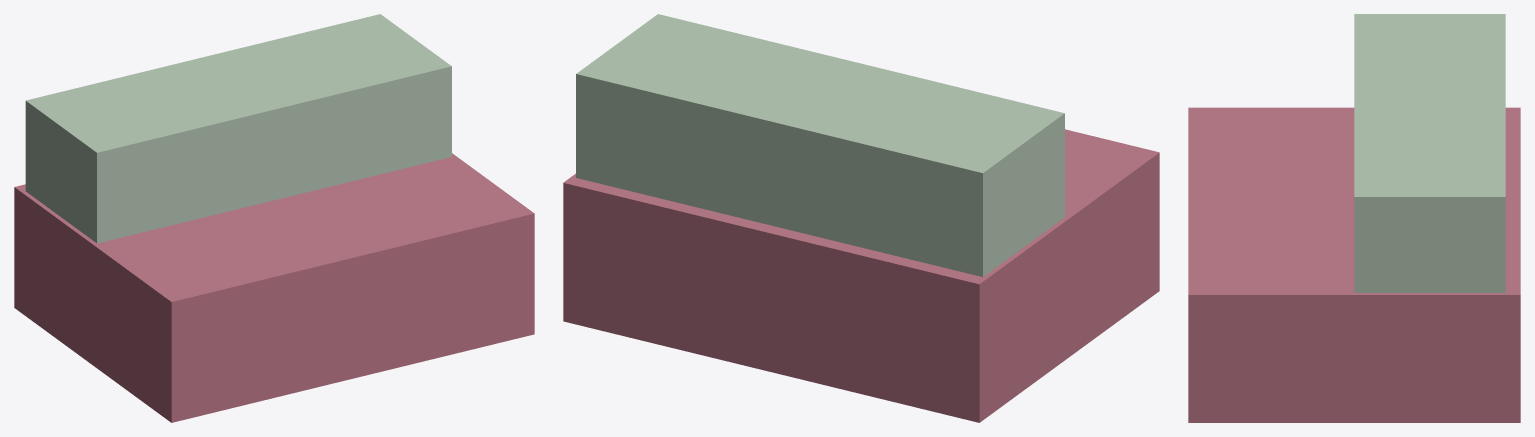
Rendered from 199504_pred.glb.
The picture shows the model from 3 angles, left to right: view 1: azimuth 30°, elevation 25°; view 2: azimuth 150°, elevation 25°; view 3: azimuth 270°, elevation 25°; orthographic projection. The views are drawn at different scales.
Parts seen in each view (by area): view 1: world; view 2: world; view 3: world.
Boxes of the visible parts, bbox=[...] form: world: bbox=[14, 14, 534, 422]; world: bbox=[563, 14, 1159, 422]; world: bbox=[1188, 14, 1520, 422].
Size of the model in its own units: 4.4 by 2.45 by 3.3.
